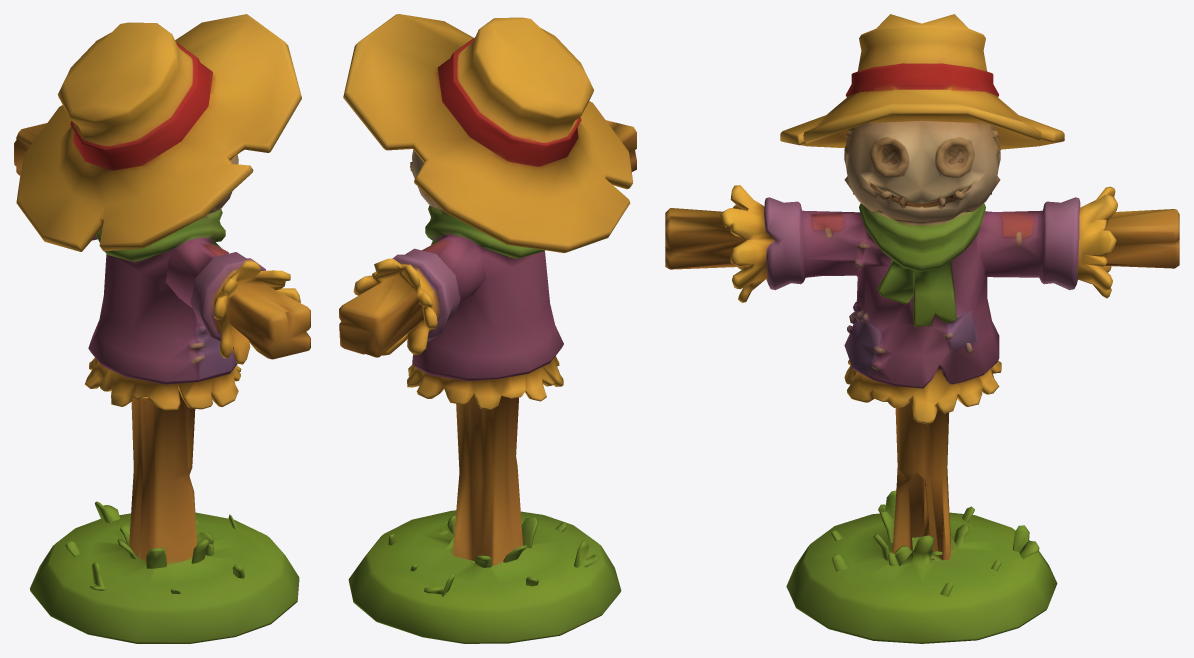
The model's file is tripo_raw.glb.
The picture shows the model from 3 angles, left to right: view 1: azimuth 30°, elevation 25°; view 2: azimuth 150°, elevation 25°; view 3: azimuth 270°, elevation 25°; orthographic projection.
Parts seen in each view (by area): view 1: tripo_node_532122a8-9f78-4431-a48e-7dea9c61b89b; view 2: tripo_node_532122a8-9f78-4431-a48e-7dea9c61b89b; view 3: tripo_node_532122a8-9f78-4431-a48e-7dea9c61b89b.
Boxes of the visible parts, x1=… form: tripo_node_532122a8-9f78-4431-a48e-7dea9c61b89b: x1=14, y1=14, x2=310, y2=643; tripo_node_532122a8-9f78-4431-a48e-7dea9c61b89b: x1=339, y1=14, x2=636, y2=643; tripo_node_532122a8-9f78-4431-a48e-7dea9c61b89b: x1=665, y1=14, x2=1179, y2=643.
Size of the model in its own units: 0.4481 by 1 by 0.8317.
1 material, 1 textured.
